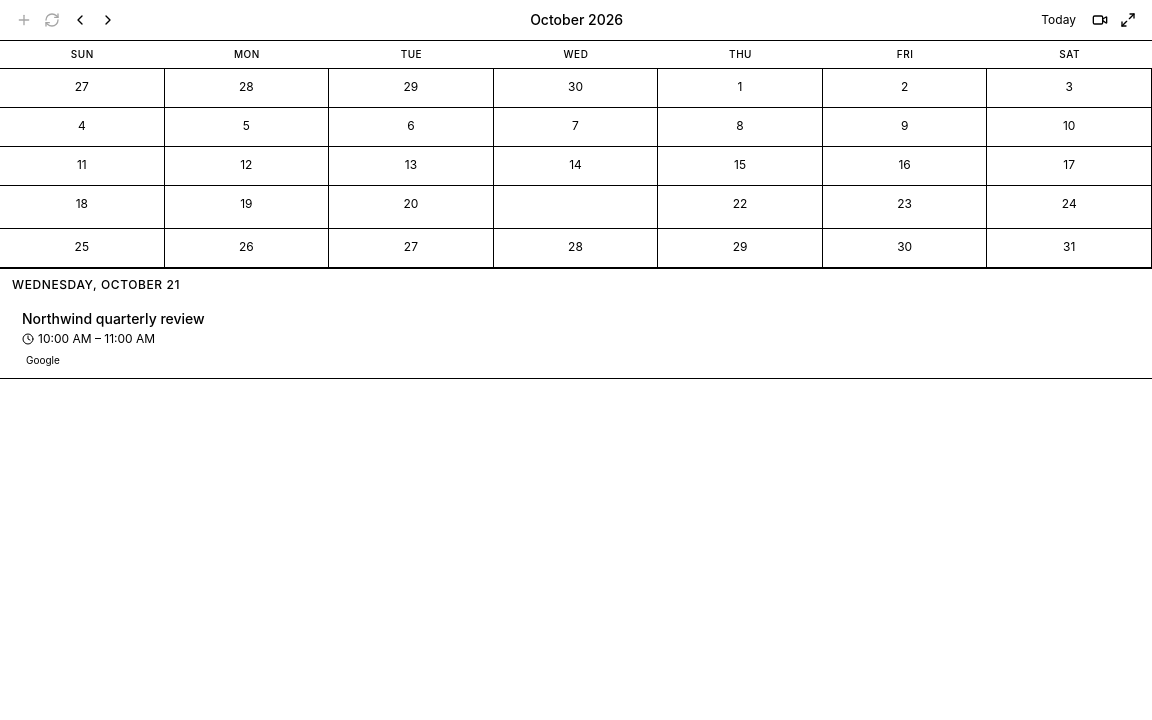
Test case: calendar delete confirmation gate › sends nothing when Delete is clicked — it only arms the confirmation
Step 1. Click the text "Northwind quarterly review" → [113, 318], box [22,310,205,327]
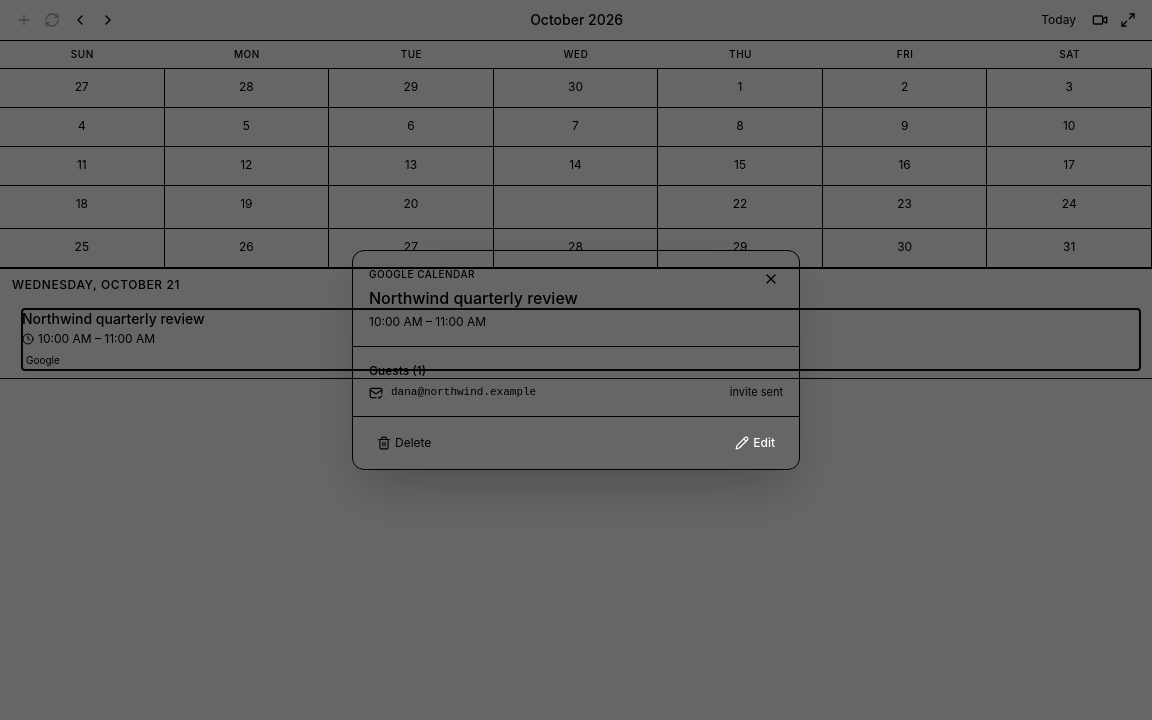
Step 2. Click the button "Delete" → [404, 443], box [369,429,439,457]
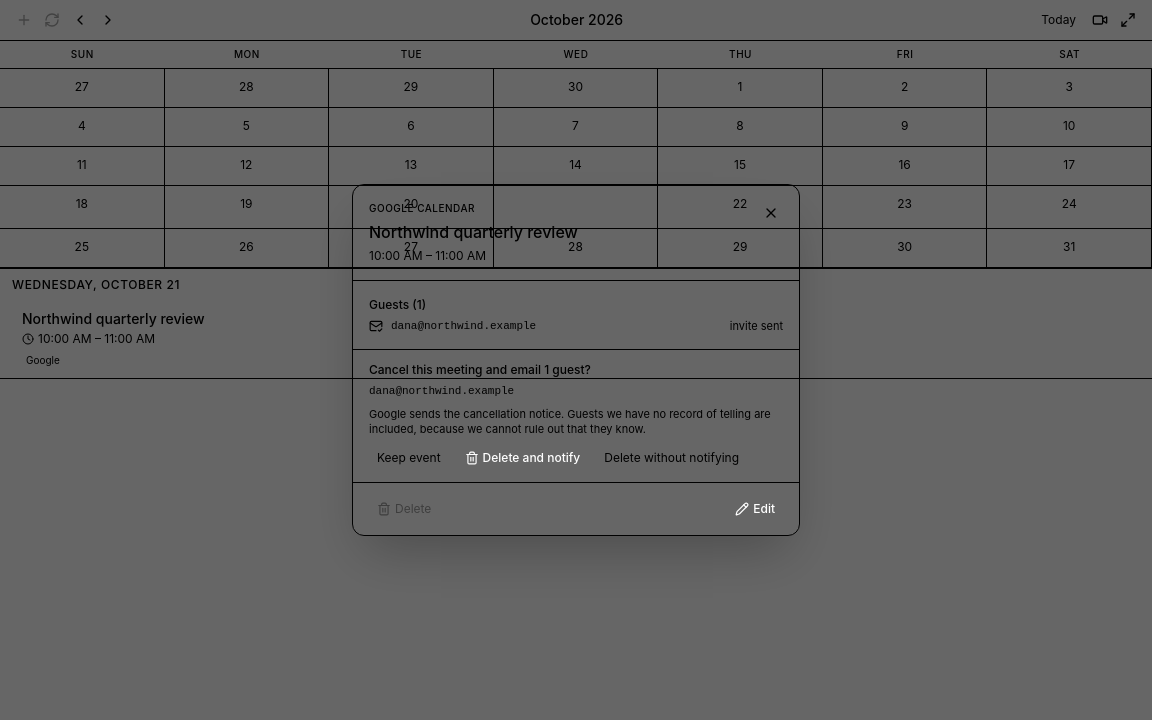
Now the text "Cancel this meeting and email 1 guest?" is shown, box [369,362,591,377]
